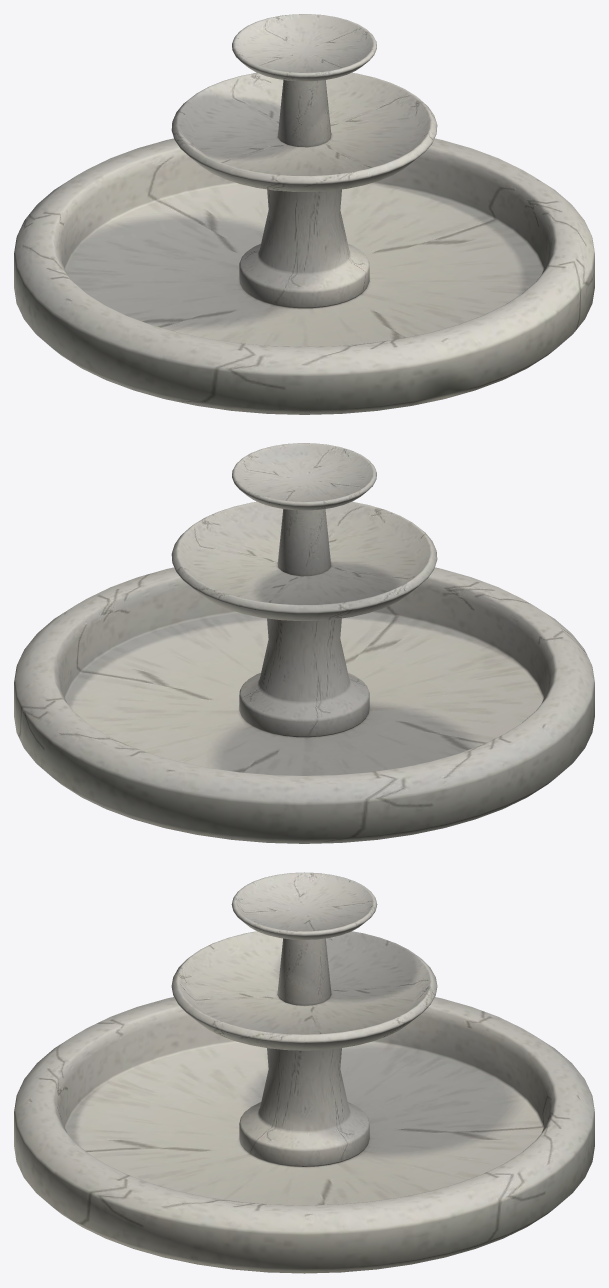
File: fountain.glb
The picture shows the model from 3 angles, top to bottom: view 1: azimuth 30°, elevation 25°; view 2: azimuth 150°, elevation 25°; view 3: azimuth 270°, elevation 25°; orthographic projection.
Parts seen in each view (by area): view 1: Mesh_0; view 2: Mesh_0; view 3: Mesh_0.
Boxes of the visible parts, bbox=[...] form: Mesh_0: bbox=[14, 14, 594, 414]; Mesh_0: bbox=[14, 443, 594, 843]; Mesh_0: bbox=[14, 872, 594, 1273].
Size of the model in its own units: 8.9 by 4.27 by 8.9.
1 material, 1 textured.
